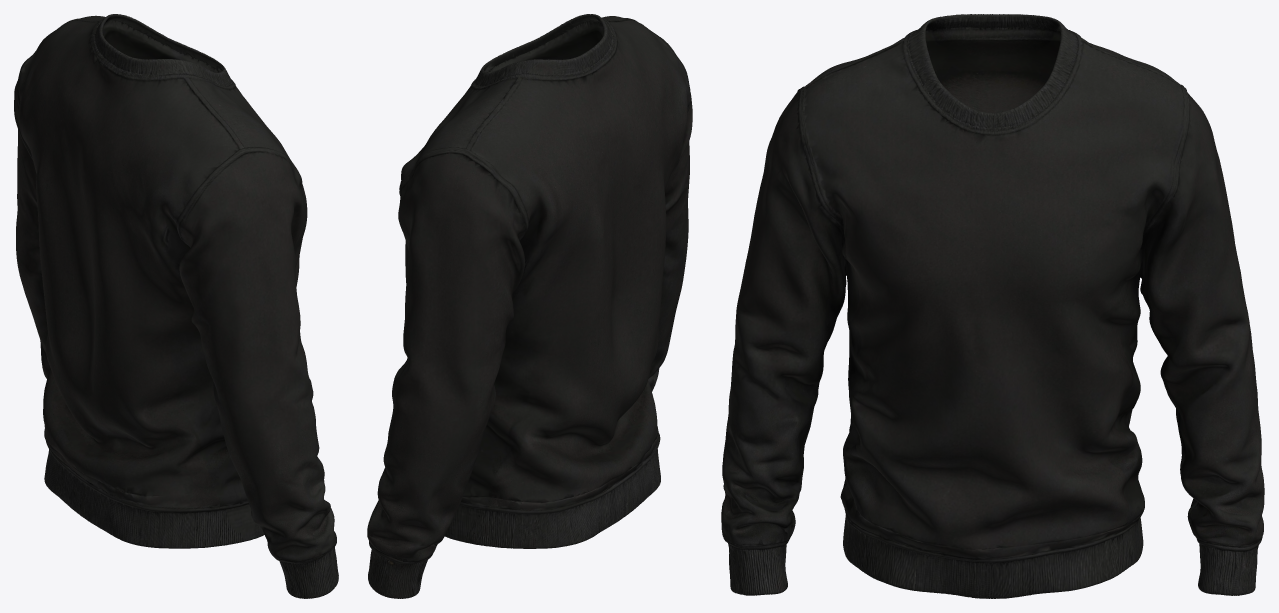
Rendered from SACO-CUELLO-REDONDO.glb.
3 views of the same model, side by side, from view 1: azimuth 30°, elevation 25°; view 2: azimuth 150°, elevation 25°; view 3: azimuth 270°, elevation 25° (orthographic). The views are drawn at different scales.
Parts seen in each view (by area): view 1: tripo_node_fa626611-a0ef-4d5b-8493-8387e5346d9e; view 2: tripo_node_fa626611-a0ef-4d5b-8493-8387e5346d9e; view 3: tripo_node_fa626611-a0ef-4d5b-8493-8387e5346d9e.
Boxes of the visible parts, box(x1,y1,x2,y2) form: tripo_node_fa626611-a0ef-4d5b-8493-8387e5346d9e: box(14, 14, 338, 598); tripo_node_fa626611-a0ef-4d5b-8493-8387e5346d9e: box(367, 14, 692, 598); tripo_node_fa626611-a0ef-4d5b-8493-8387e5346d9e: box(721, 14, 1264, 598).
Size of the model in its own units: 0.4326 by 0.9795 by 0.8979.
1 material, 1 textured.
